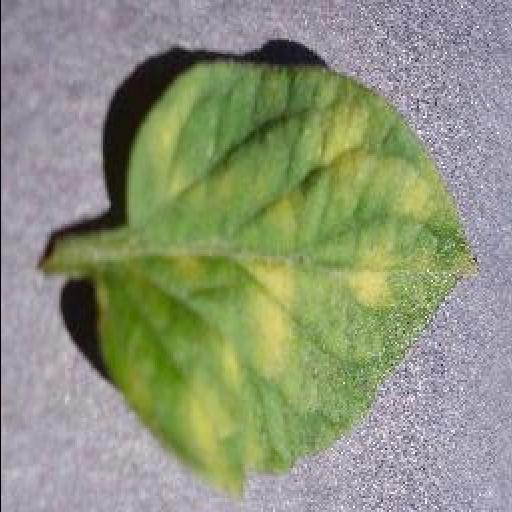disease_tomato: (89, 63, 483, 475)
